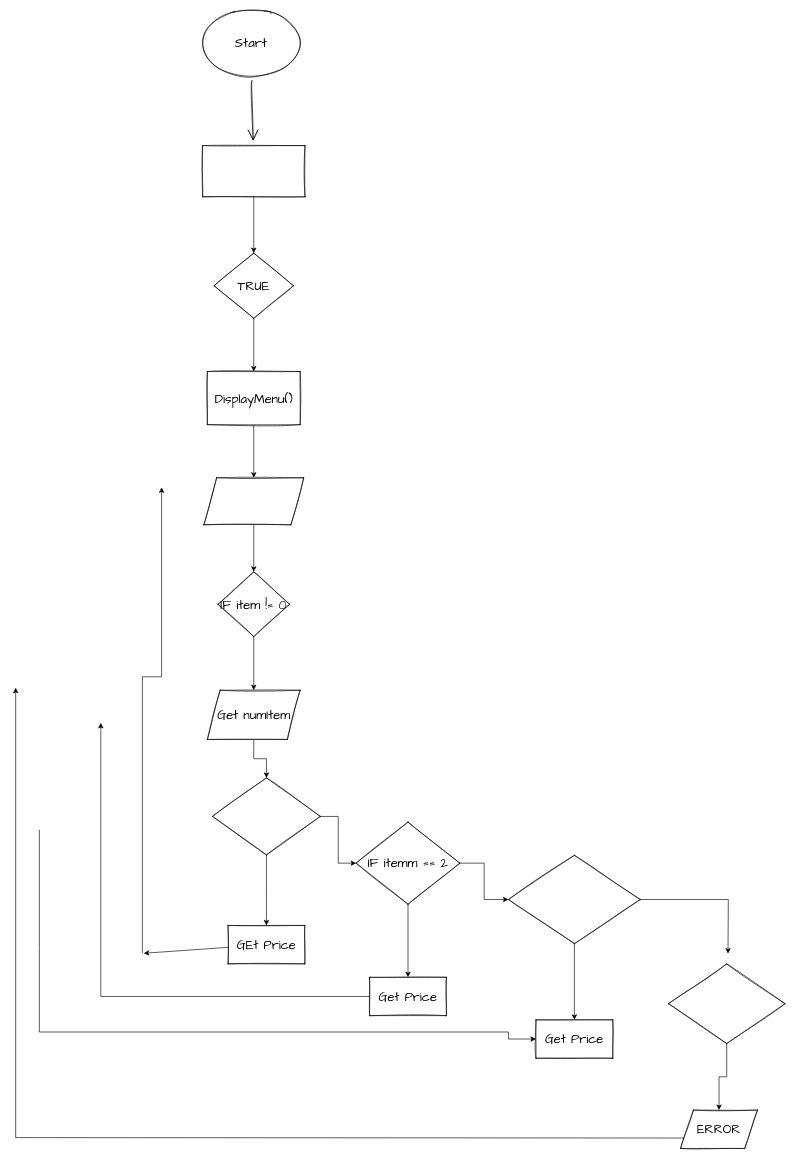
Some shapes in this 796 by 1160 pixel diagram are drawn without their labels. The centre of each missing label's shape, as x and y in pixels:
ELSE: the point at 726,1003
Get Item: the point at 253,501
IF item == 1: the point at 266,816
IF item == 3: the point at 574,899
WHILE: the point at 253,171
